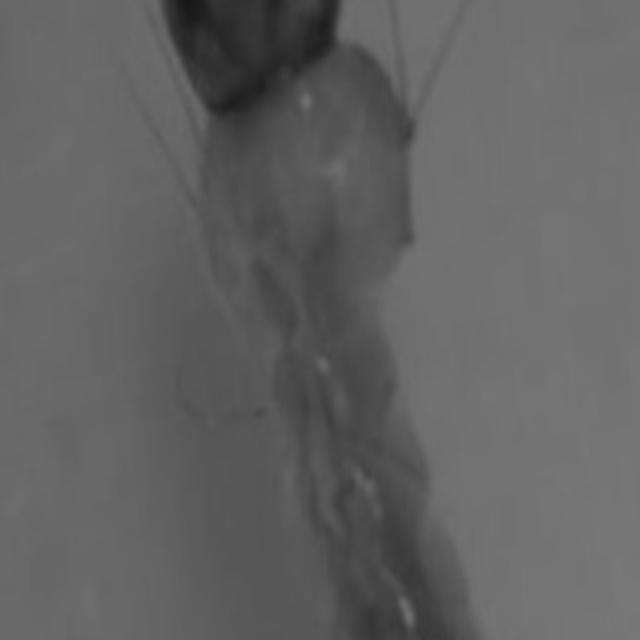larvas: (164, 0, 475, 640)
